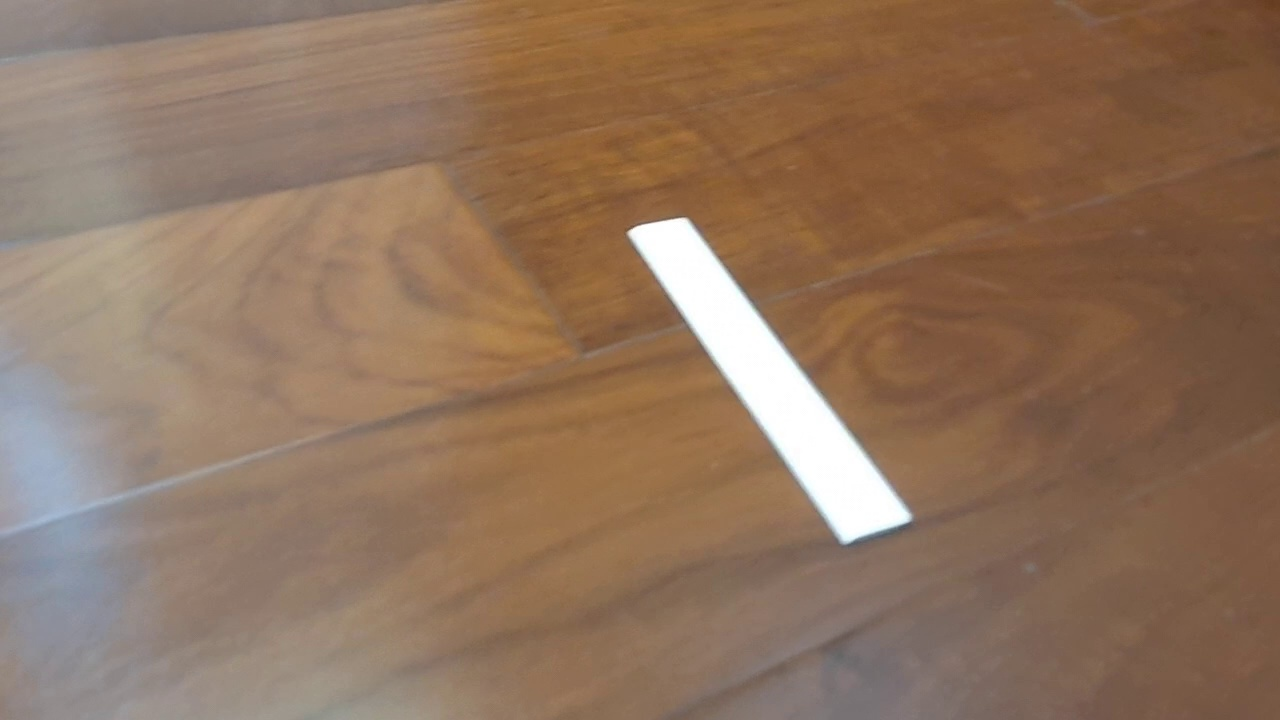ruler: (624, 214, 915, 549)
